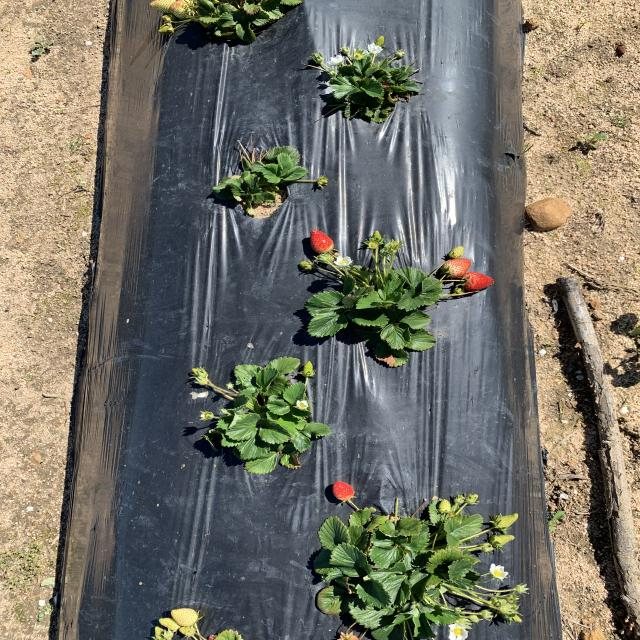unripe: (462, 270, 495, 290), (310, 228, 334, 253), (330, 482, 358, 503), (443, 257, 471, 276)
